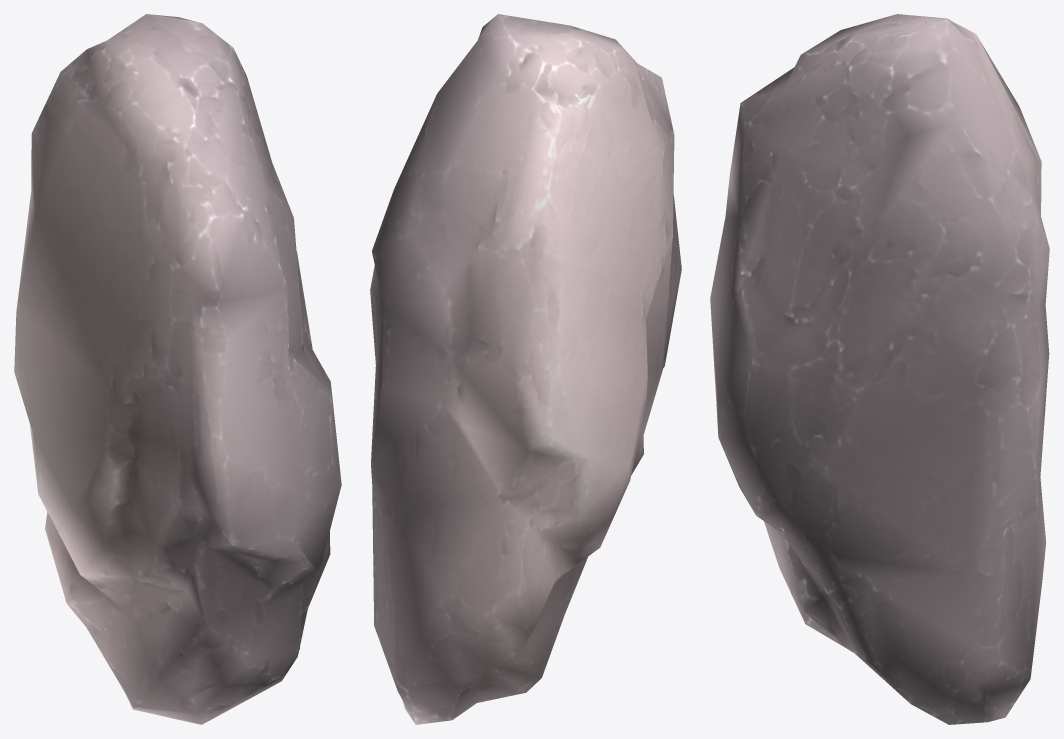
The model's file is Obj_Roca.fbx.
The picture shows the model from 3 angles, left to right: view 1: azimuth 30°, elevation 25°; view 2: azimuth 150°, elevation 25°; view 3: azimuth 270°, elevation 25°; orthographic projection. The views are drawn at different scales.
Visible parts, largest first — view 1: Obj_roca; view 2: Obj_roca; view 3: Obj_roca.
Boxes of the visible parts, box(x1,y1,x2,y2) form: Obj_roca: box(14, 14, 341, 724); Obj_roca: box(370, 14, 681, 724); Obj_roca: box(710, 14, 1049, 724).
Size of the model in its own units: 0.3507 by 1.1 by 0.5061.
